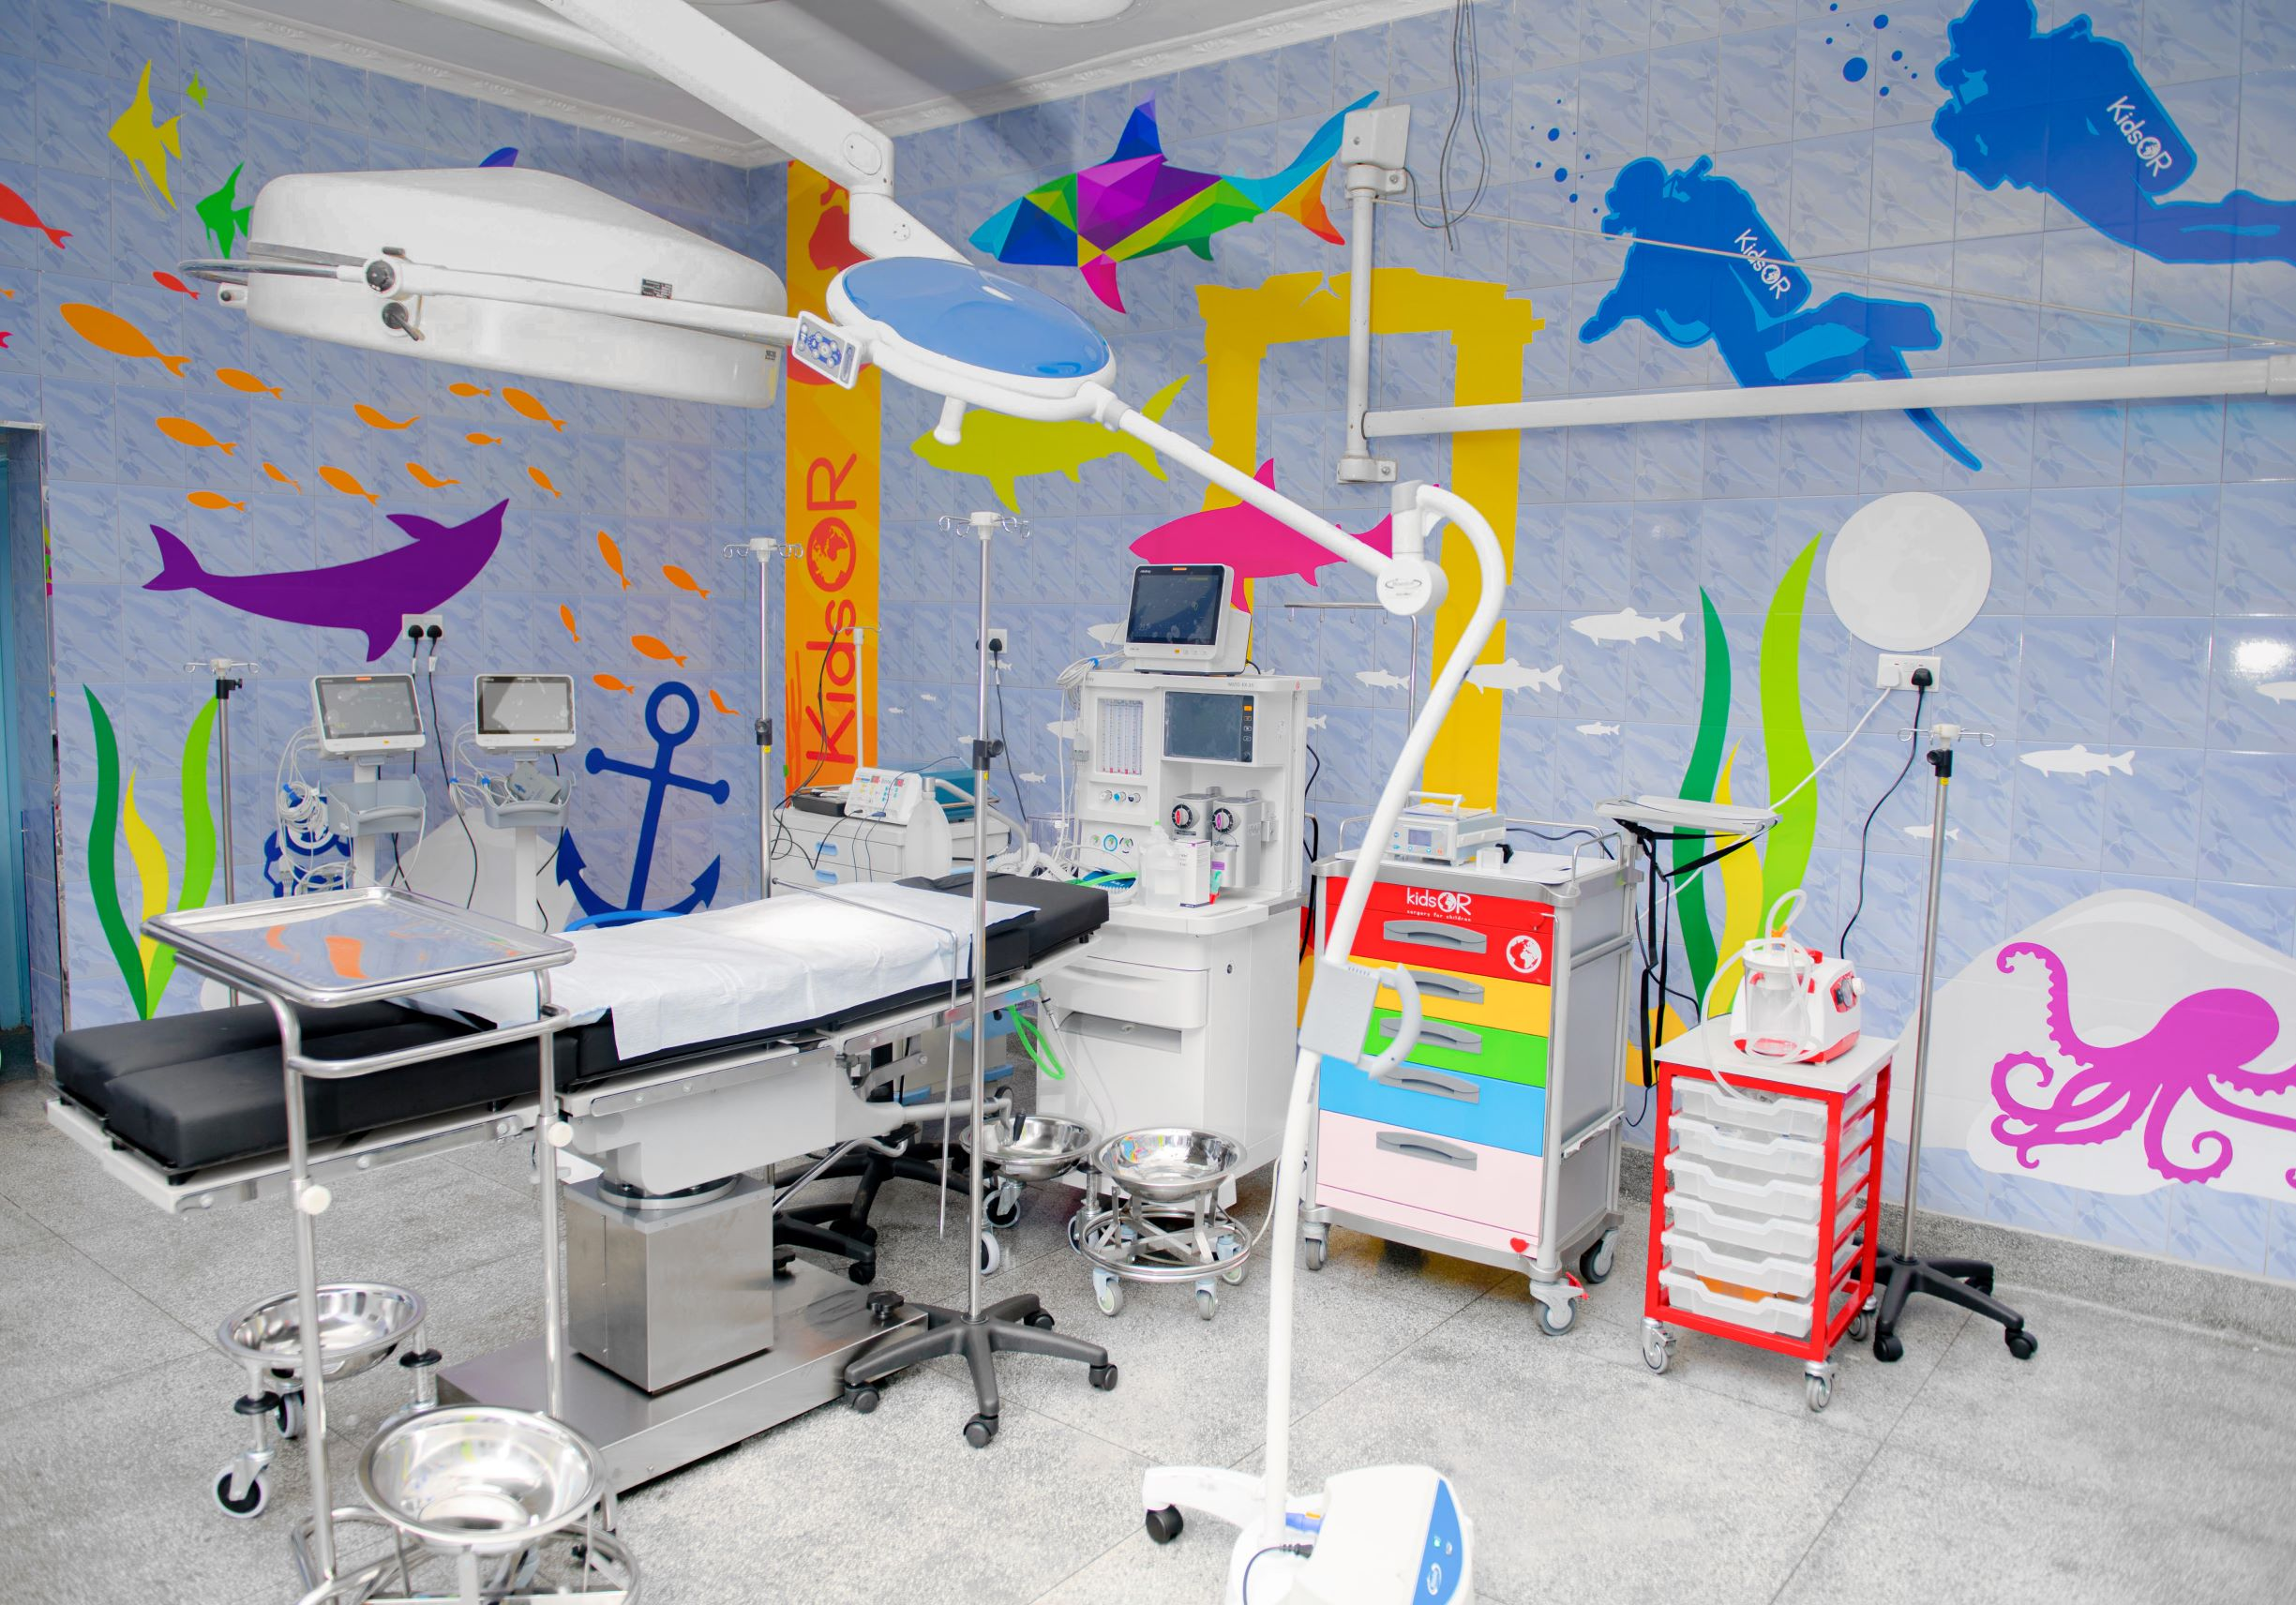bedside_monitor: (309, 673, 427, 766), (1162, 682, 1260, 783), (1132, 558, 1228, 659), (473, 672, 579, 755)
electrosurgical_unit: (843, 761, 981, 823)
handle: (1382, 912, 1497, 960), (1370, 1130, 1492, 1172), (1371, 1064, 1486, 1106), (1380, 968, 1488, 1007), (1378, 1021, 1499, 1048)
iv_pole: (939, 508, 1033, 1324), (1896, 708, 2001, 1260), (171, 645, 290, 1005), (721, 537, 808, 897)
medical_drawer: (1302, 850, 1635, 1335), (1640, 1012, 1900, 1415), (759, 809, 1014, 1104)
medical_waste_container: (291, 1403, 630, 1605), (211, 1277, 447, 1516), (1089, 1123, 1251, 1322), (963, 1111, 1097, 1228)
operating_bed: (45, 867, 1110, 1516)
overbed_table: (140, 883, 659, 1605)
surgical_light: (176, 164, 785, 412), (794, 256, 1118, 447)
ventilator: (1043, 656, 1310, 1193)
